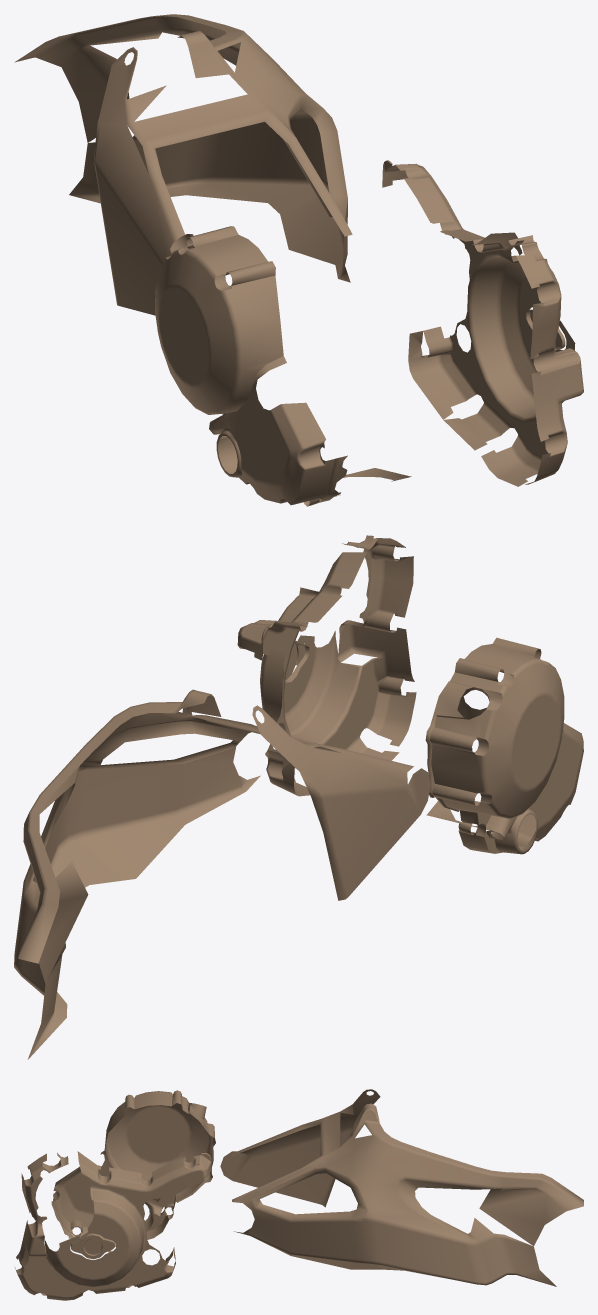
Rendered from Engine_Guard-transformed.glb.
The picture shows the model from 3 angles, top to bottom: view 1: azimuth 30°, elevation 25°; view 2: azimuth 150°, elevation 25°; view 3: azimuth 270°, elevation 25°; orthographic projection. The views are drawn at different scales.
Parts seen in each view (by area): view 1: EngineGuard; view 2: EngineGuard; view 3: EngineGuard.
Boxes of the visible parts, box(x1,y1,x2,y2) form: EngineGuard: box(14, 14, 583, 506); EngineGuard: box(14, 535, 583, 1059); EngineGuard: box(15, 1089, 583, 1300).
Bounding box in the file's own units: 0.3632 × 0.3046 × 0.9141.
